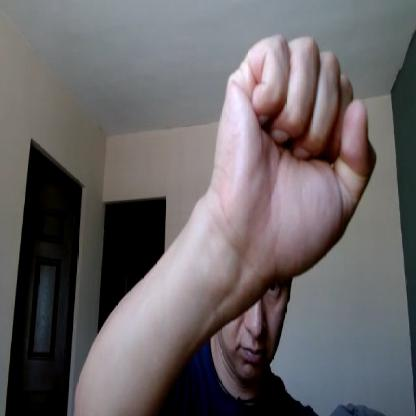S: (215, 33, 379, 274)
